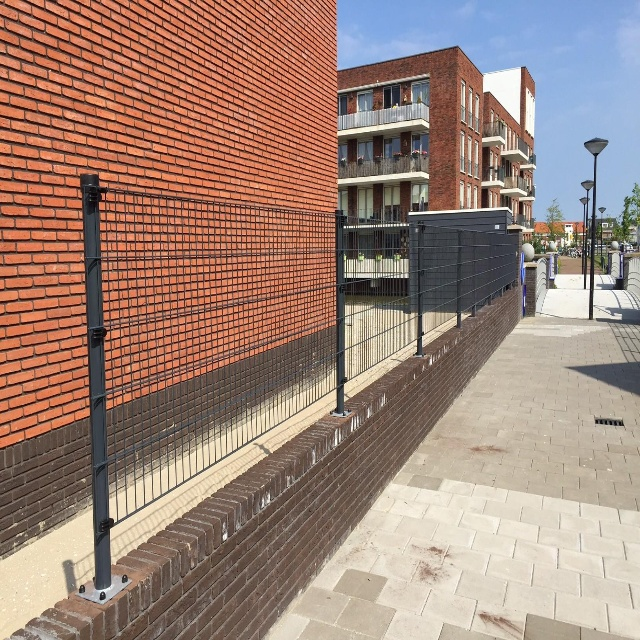obstacle: (193, 53, 640, 564)
